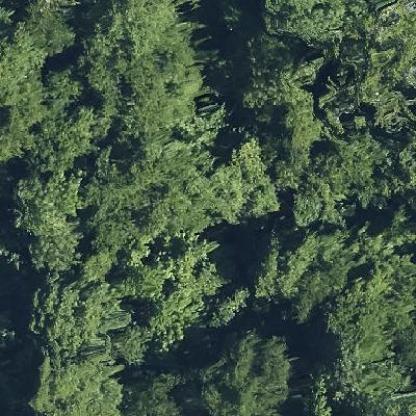tree-top: (84, 2, 205, 136), (28, 277, 130, 415), (255, 226, 348, 322), (193, 333, 292, 415), (15, 163, 84, 276), (246, 44, 316, 113)
